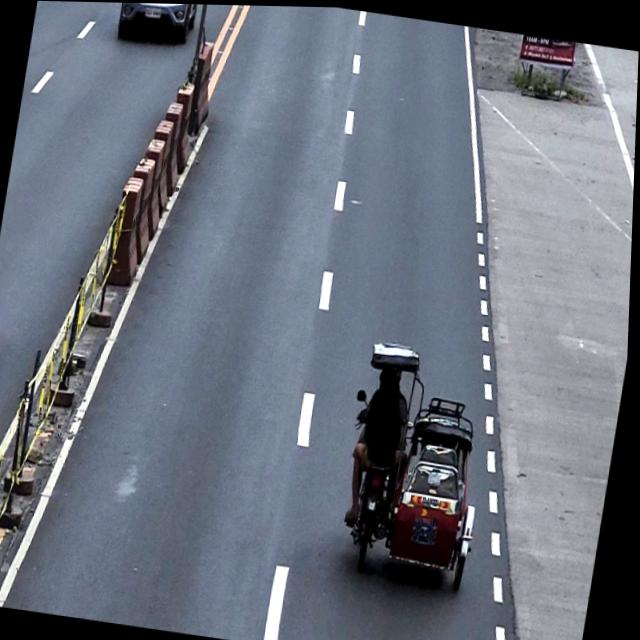Car: (116, 2, 200, 46)
License-Plate: (143, 5, 162, 19)
Tricycle: (332, 336, 505, 591)
